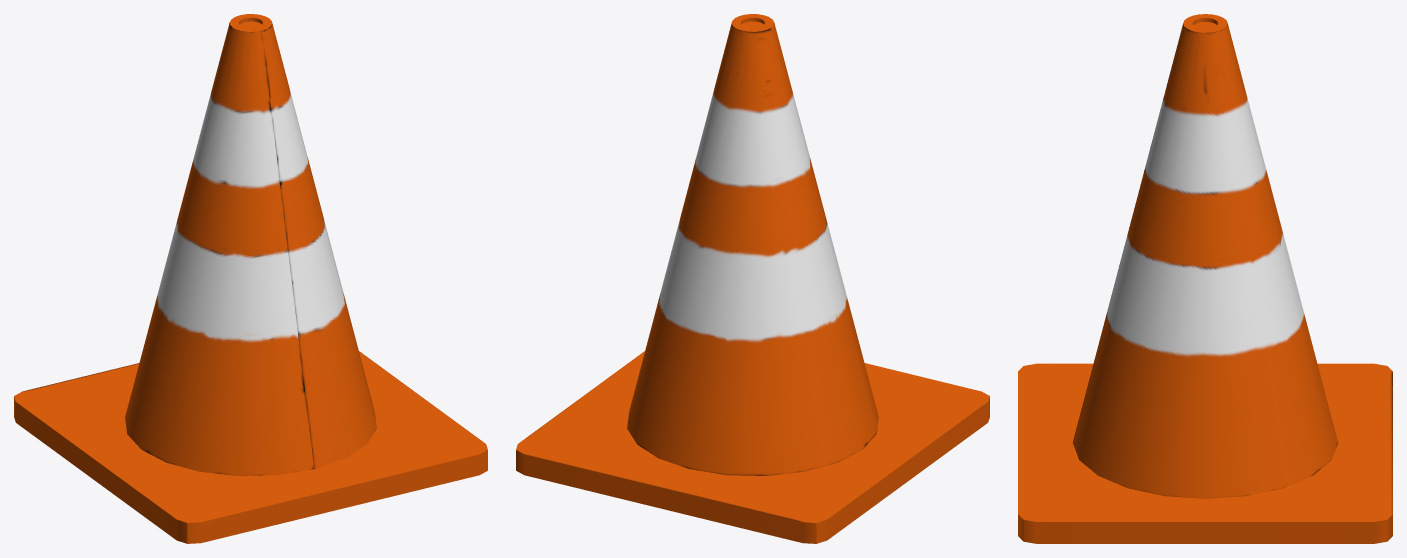
The model's file is Traffic_cone_01.fbx.
3 views of the same model, side by side, from view 1: azimuth 30°, elevation 25°; view 2: azimuth 150°, elevation 25°; view 3: azimuth 270°, elevation 25° (orthographic). The views are drawn at different scales.
Parts seen in each view (by area): view 1: Cone; view 2: Cone; view 3: Cone.
Boxes of the visible parts, x1=… form: Cone: x1=14, y1=14, x2=487, y2=543; Cone: x1=516, y1=14, x2=989, y2=543; Cone: x1=1018, y1=14, x2=1392, y2=543.
Size of the model in its own units: 14.25 by 18.51 by 14.25.
Materials: 1 (1 with a texture image).
